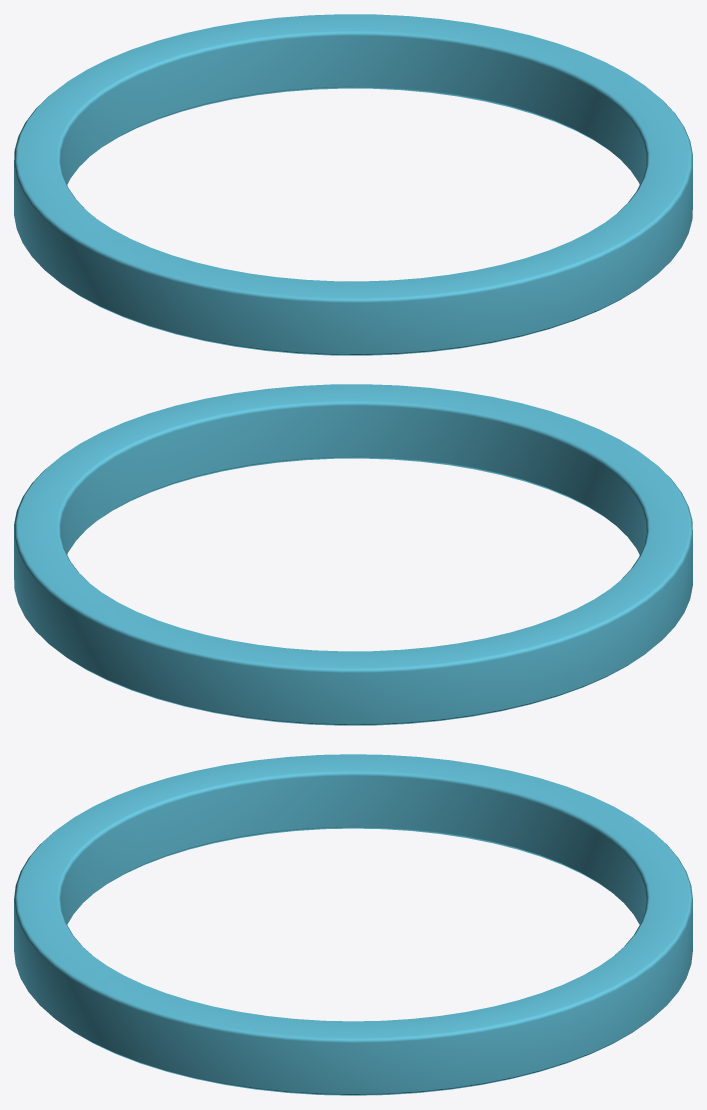
3 renders of one model, top to bottom at view 1: azimuth 30°, elevation 25°; view 2: azimuth 150°, elevation 25°; view 3: azimuth 270°, elevation 25°, orthographic.
Visible parts, largest first — view 1: seal_body; view 2: seal_body; view 3: seal_body.
Part boxes in pixels (x1,y1,x2,y2): seal_body: (14, 14, 692, 355); seal_body: (14, 384, 692, 725); seal_body: (14, 754, 692, 1095).
Size of the model in its own units: 0.116 by 0.0109 by 0.116.
